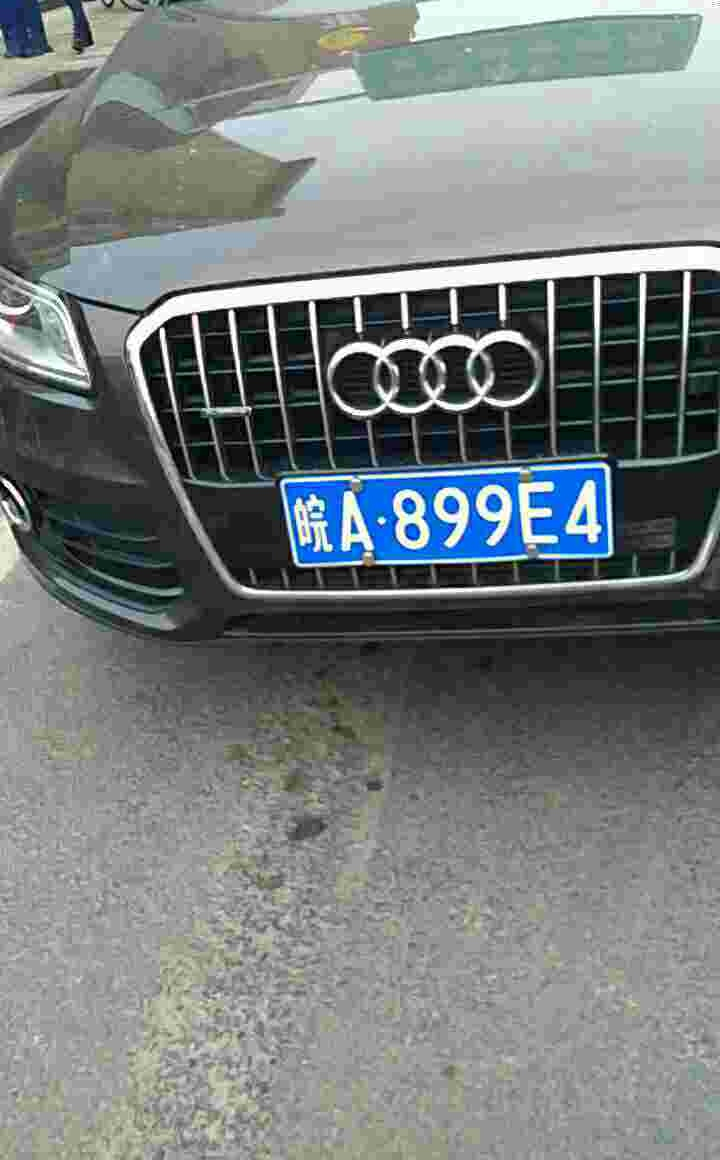license_plate: (287, 465, 620, 565)
